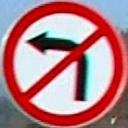NoVirarEsquerda: (0, 1, 128, 128)
